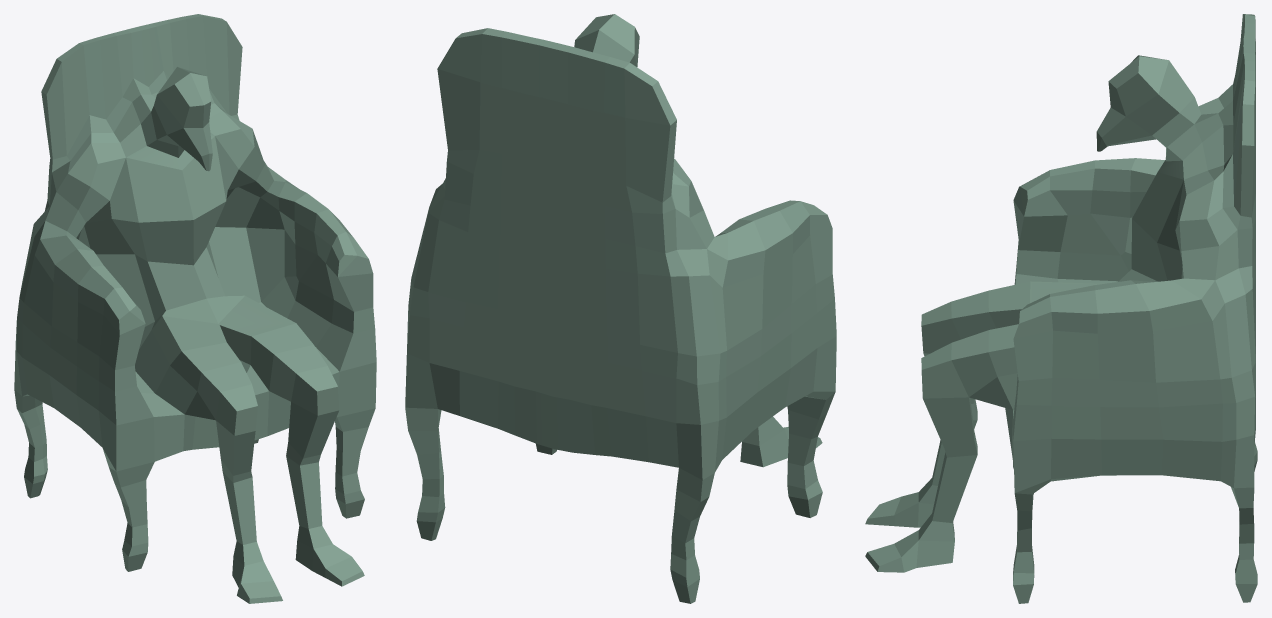
The model's file is FM_UV_LowPoly_Sitting.fbx.
3 renders of one model, left to right at view 1: azimuth 30°, elevation 25°; view 2: azimuth 150°, elevation 25°; view 3: azimuth 270°, elevation 25°, orthographic. The views are drawn at different scales.
Visible parts, largest first — view 1: FireplaceMan_LP_Sitting_UV; view 2: FireplaceMan_LP_Sitting_UV; view 3: FireplaceMan_LP_Sitting_UV.
Part boxes in pixels (box(x1,y1,x2,y2)): FireplaceMan_LP_Sitting_UV: box(14, 14, 376, 603); FireplaceMan_LP_Sitting_UV: box(405, 14, 836, 603); FireplaceMan_LP_Sitting_UV: box(865, 14, 1257, 603).
Size of the model in its own units: 11.45 by 18.35 by 13.2.
